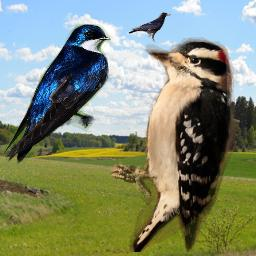Crow: (128, 12, 171, 43)
Swallow: (2, 24, 111, 164)
Woodpecker: (108, 35, 235, 252)
